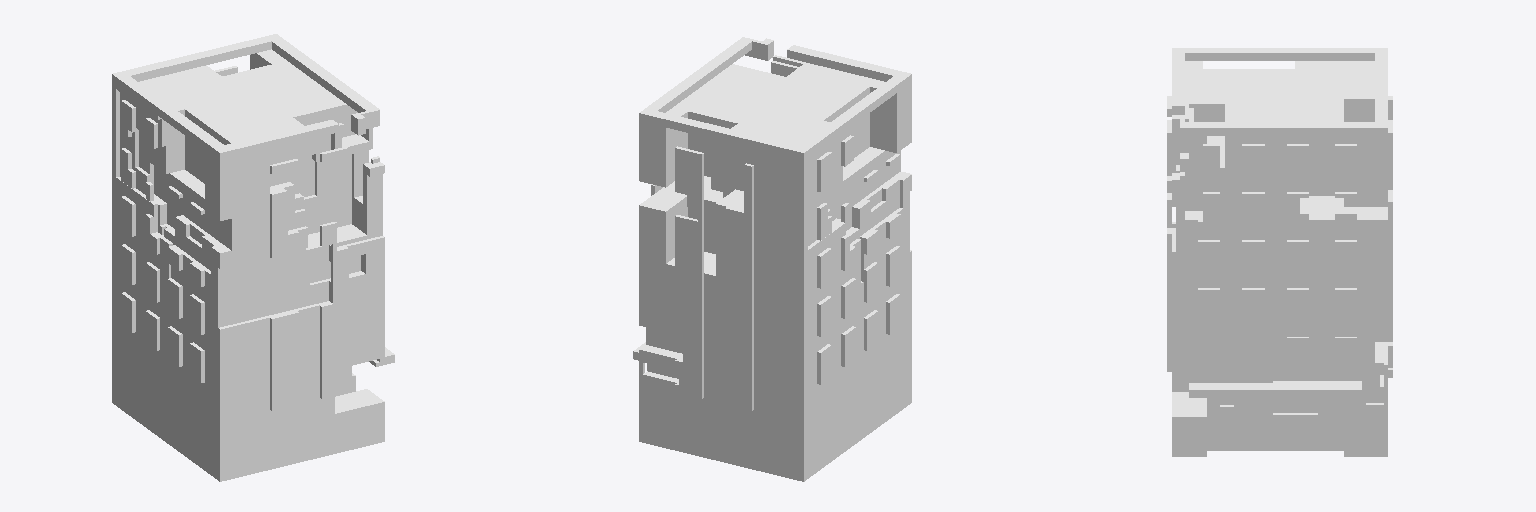
File: rebuild_1.2.obj
3 renders of one model, left to right at view 1: azimuth 30°, elevation 25°; view 2: azimuth 150°, elevation 25°; view 3: azimuth 270°, elevation 25°, orthographic.
Size of the model in its own units: 49 by 82 by 51.